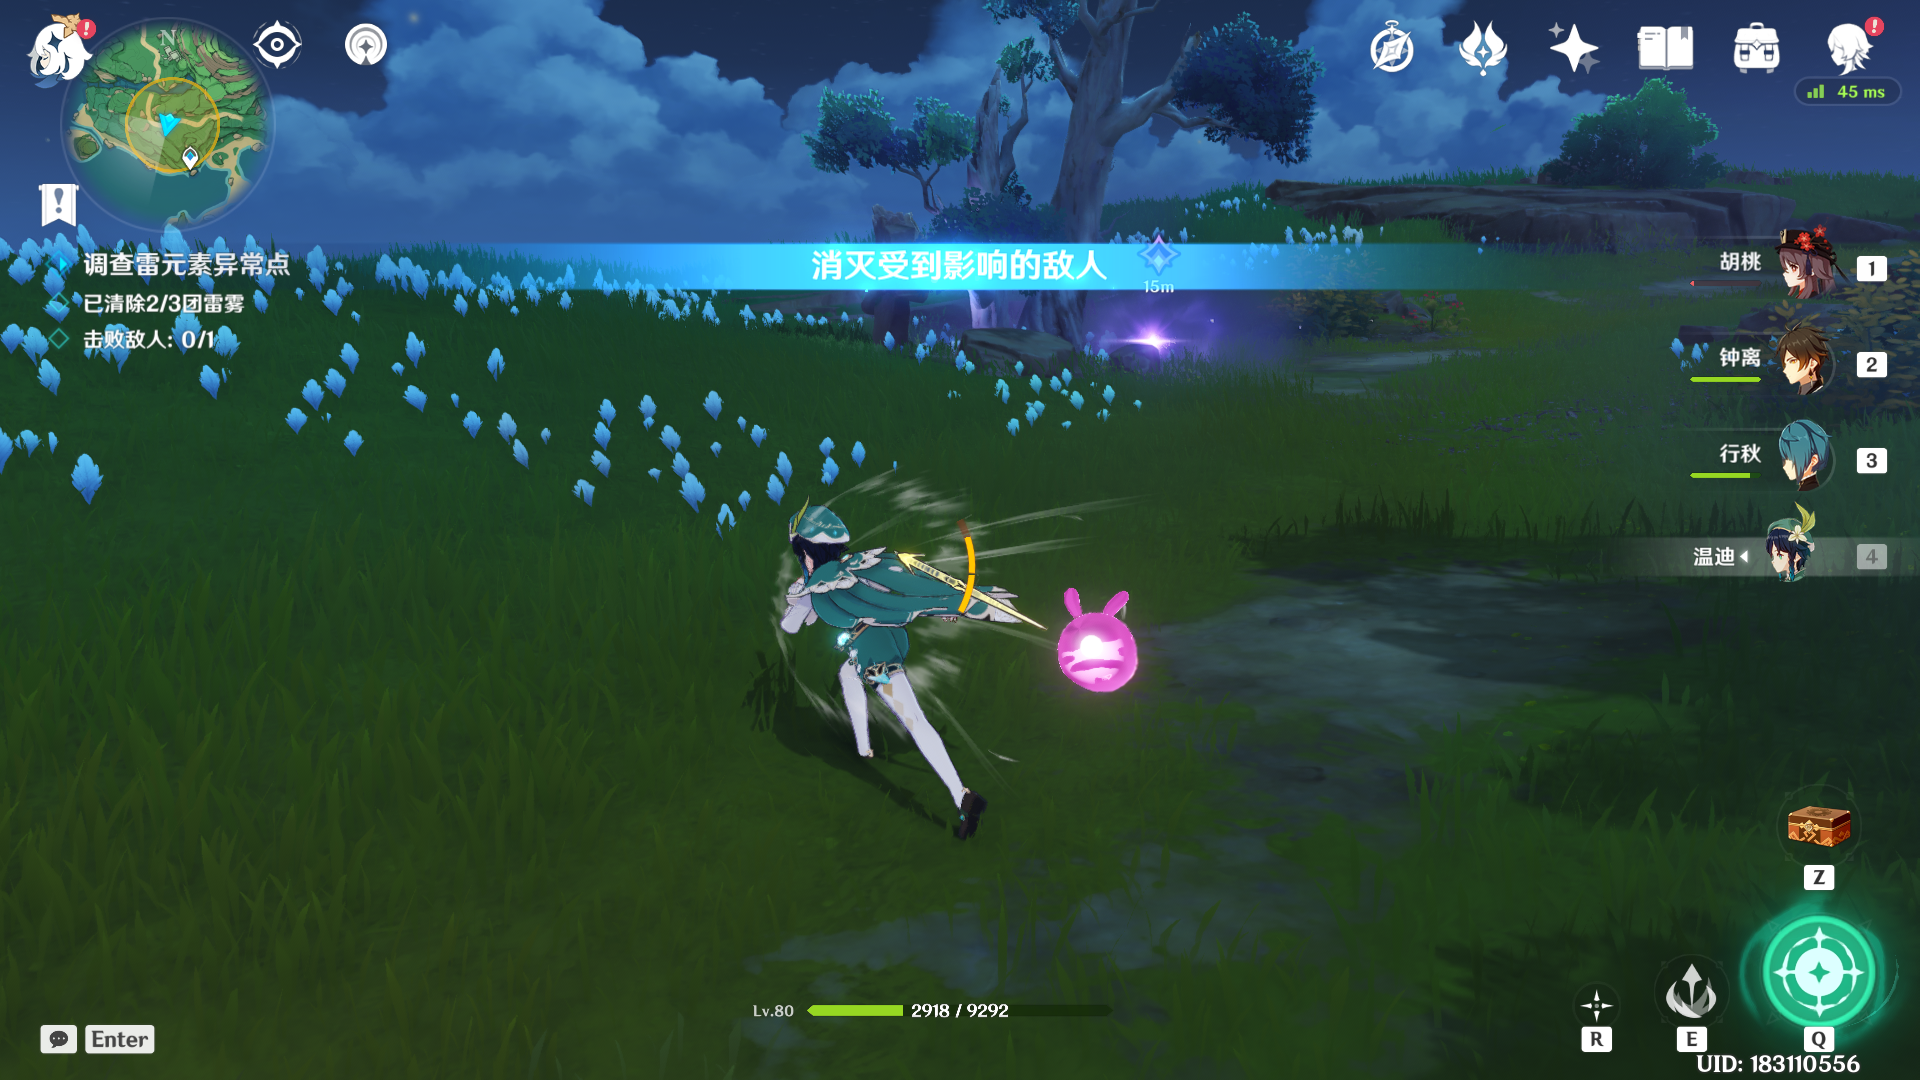character: (719, 462, 1059, 856)
